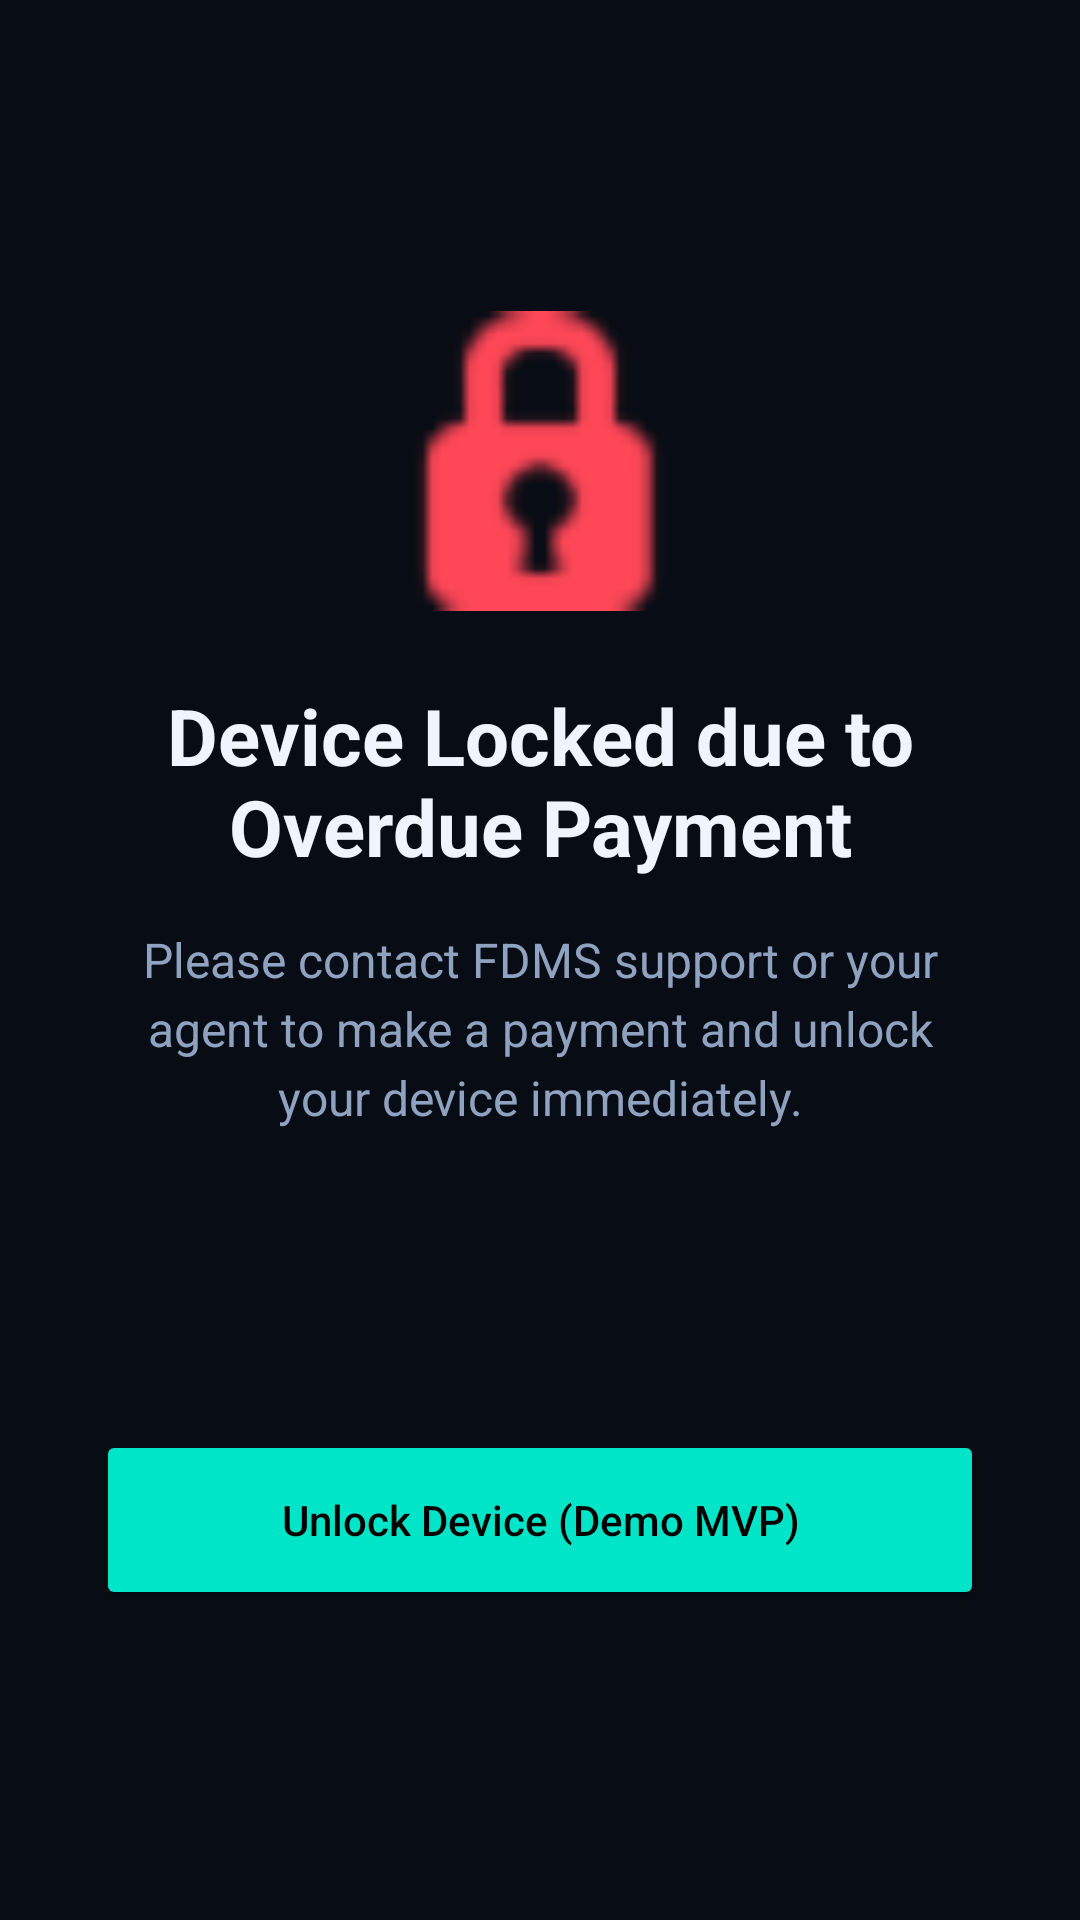

Icons on this 1080*1920 Android screen, each with the point to tap as [x,y]:
secure: [538,461]
